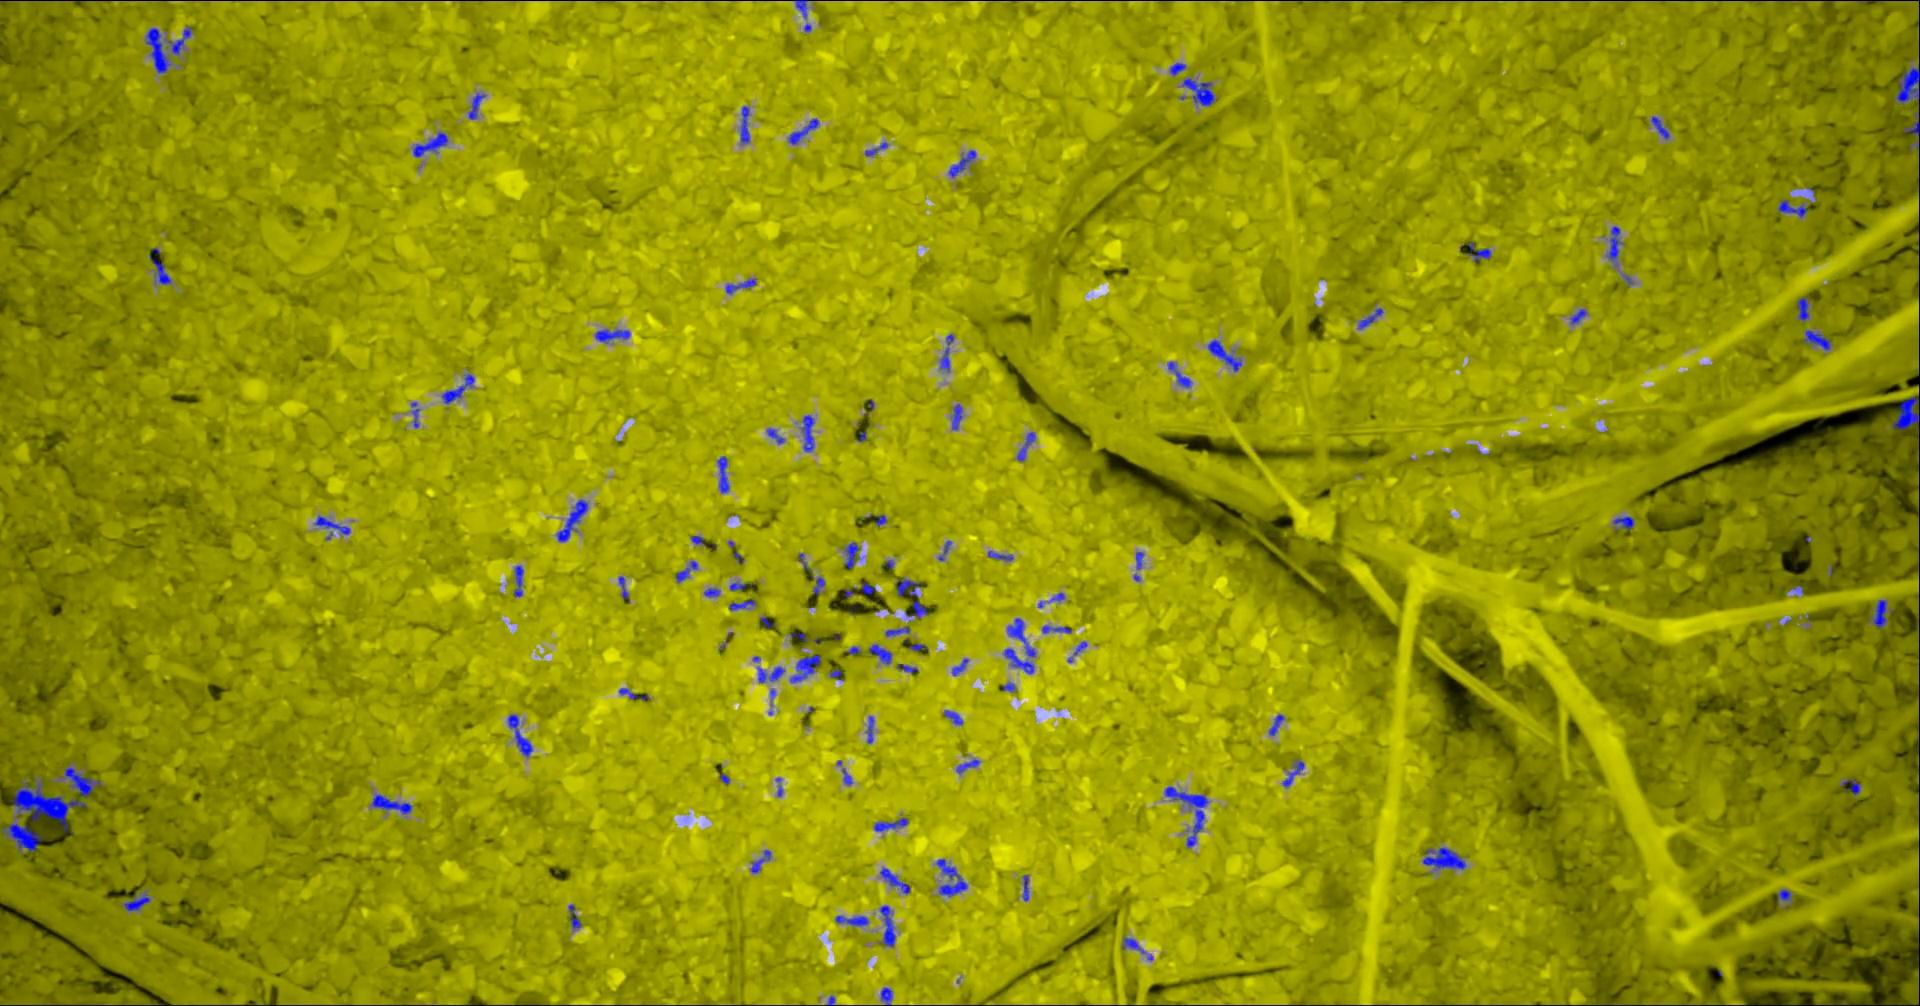ant: (1164, 786, 1208, 847), (1895, 65, 1919, 151), (556, 499, 587, 541), (897, 578, 928, 616), (936, 857, 968, 895), (145, 27, 170, 72), (0, 823, 41, 851), (1006, 619, 1035, 655), (63, 767, 100, 796), (507, 714, 532, 756), (1208, 339, 1241, 371), (1181, 77, 1217, 105), (441, 373, 474, 403), (1422, 847, 1465, 869), (1891, 396, 1919, 429), (314, 514, 350, 539), (789, 654, 820, 682), (411, 132, 447, 156), (371, 794, 411, 813), (879, 868, 909, 893), (949, 149, 975, 177), (789, 118, 818, 144), (1003, 648, 1032, 673), (166, 25, 190, 55), (879, 904, 895, 946), (149, 255, 171, 285), (1167, 361, 1191, 387), (1802, 329, 1830, 351), (1606, 226, 1622, 264), (1016, 431, 1035, 460), (1283, 760, 1303, 786), (1777, 199, 1806, 217), (1357, 307, 1383, 328), (594, 329, 629, 343), (872, 817, 907, 831), (676, 560, 697, 582), (725, 278, 756, 293), (869, 644, 891, 664), (750, 848, 770, 873), (940, 334, 952, 370), (757, 666, 783, 682), (1467, 241, 1490, 260), (1870, 600, 1886, 627), (803, 414, 814, 451), (123, 893, 149, 909), (469, 93, 484, 119), (1651, 116, 1669, 138), (717, 455, 728, 492), (618, 687, 648, 700), (844, 542, 858, 568), (1121, 937, 1144, 953), (955, 760, 979, 774), (568, 904, 582, 929), (836, 915, 869, 925), (740, 105, 749, 142), (951, 403, 963, 431), (513, 565, 523, 596), (863, 142, 888, 155), (1611, 516, 1633, 530), (1269, 714, 1283, 735), (1841, 777, 1859, 794), (1797, 296, 1808, 320), (951, 658, 968, 674), (792, 0, 808, 18), (766, 428, 783, 443), (987, 550, 1013, 560), (729, 600, 756, 610), (943, 710, 963, 724), (1570, 307, 1586, 323), (811, 575, 824, 594), (618, 575, 629, 598), (410, 401, 419, 427), (1041, 625, 1070, 633), (885, 626, 909, 635), (865, 715, 872, 743), (1170, 62, 1186, 75), (1021, 874, 1029, 901), (880, 987, 891, 1005), (729, 582, 754, 589), (1777, 889, 1790, 902), (861, 580, 872, 594), (703, 587, 720, 596), (1135, 551, 1143, 569)
